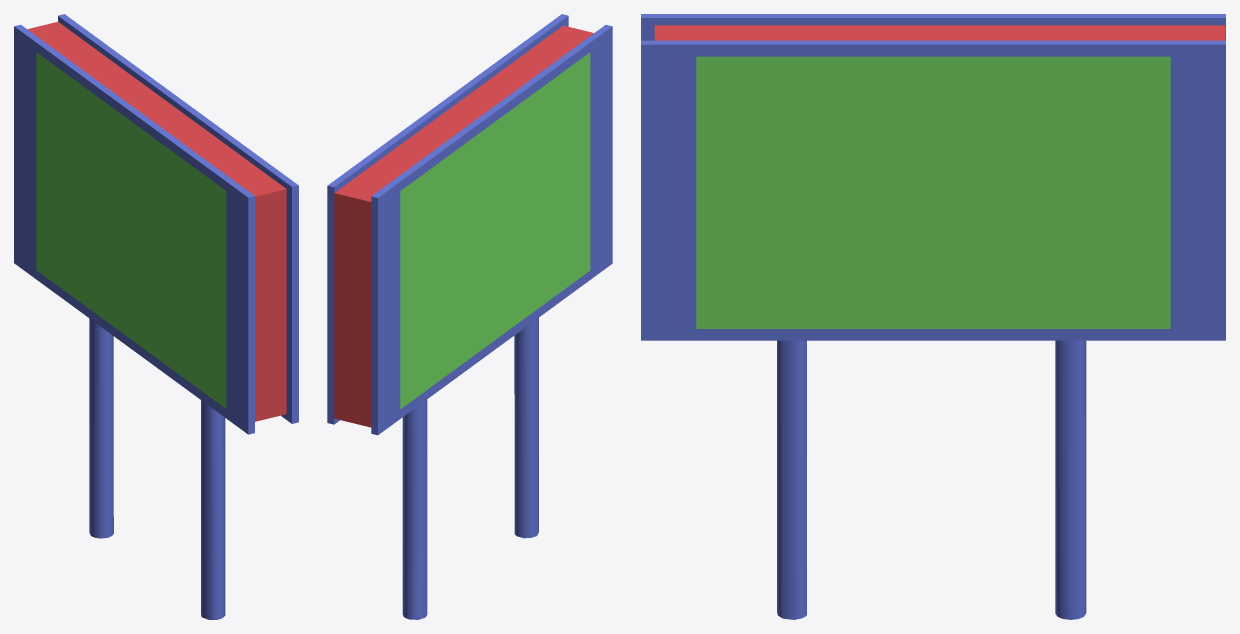
The model's file is 3DBillboard_2.fbx.
The picture shows the model from 3 angles, left to right: view 1: azimuth 30°, elevation 25°; view 2: azimuth 150°, elevation 25°; view 3: azimuth 270°, elevation 25°; orthographic projection. The views are drawn at different scales.
Visible parts, largest first — view 1: 3D_Billboard_2; view 2: 3D_Billboard_2; view 3: 3D_Billboard_2.
Boxes of the visible parts, box(x1,y1,x2,y2) form: 3D_Billboard_2: box(14, 14, 298, 619); 3D_Billboard_2: box(327, 14, 612, 619); 3D_Billboard_2: box(641, 14, 1225, 619).
Bounding box in the file's own units: 232 × 2054 × 1864.
